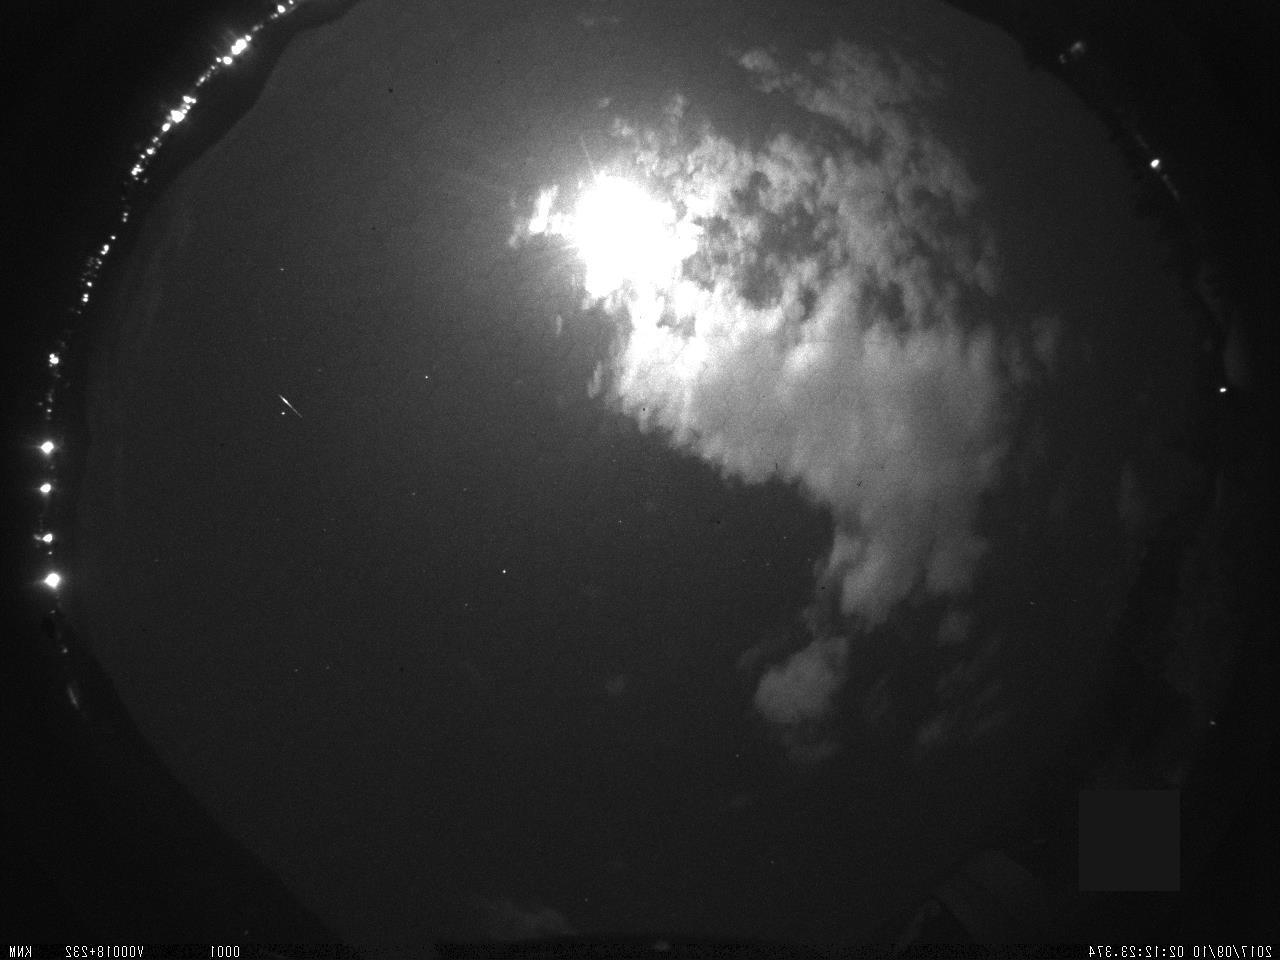meteor: (275, 384, 319, 428)
